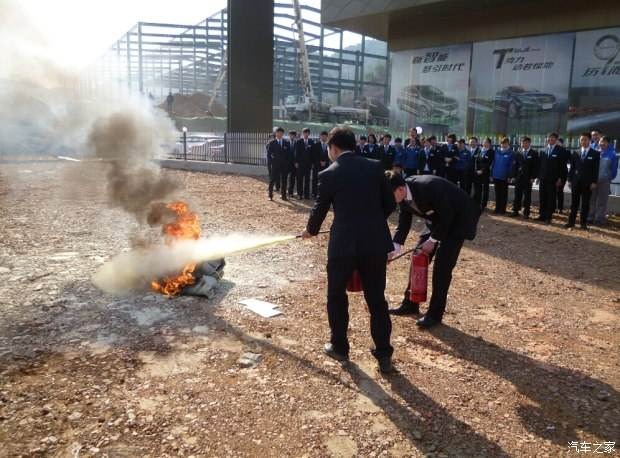fire: (133, 186, 232, 286)
